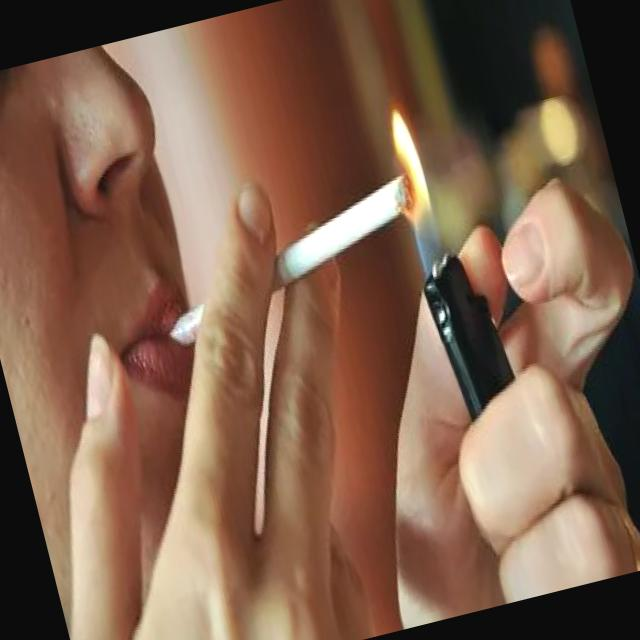smoke: (144, 161, 452, 368)
